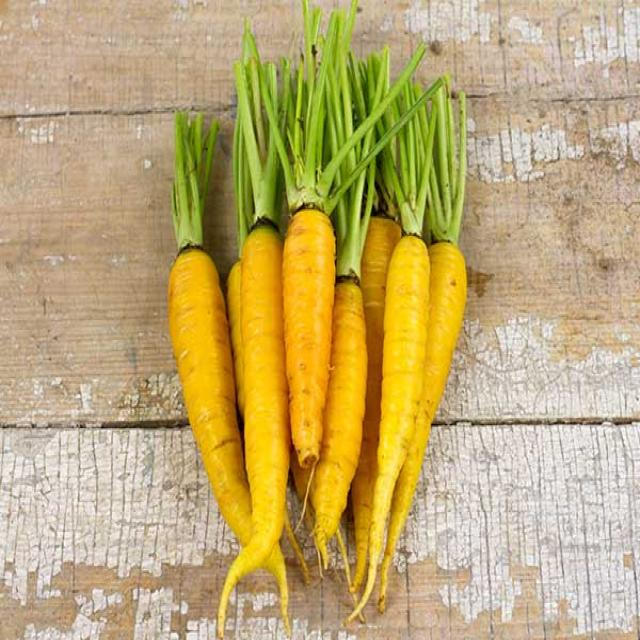carrot: (162, 223, 229, 555), (234, 229, 283, 538), (280, 183, 322, 443), (377, 236, 414, 469), (428, 239, 466, 413), (325, 293, 353, 502)
